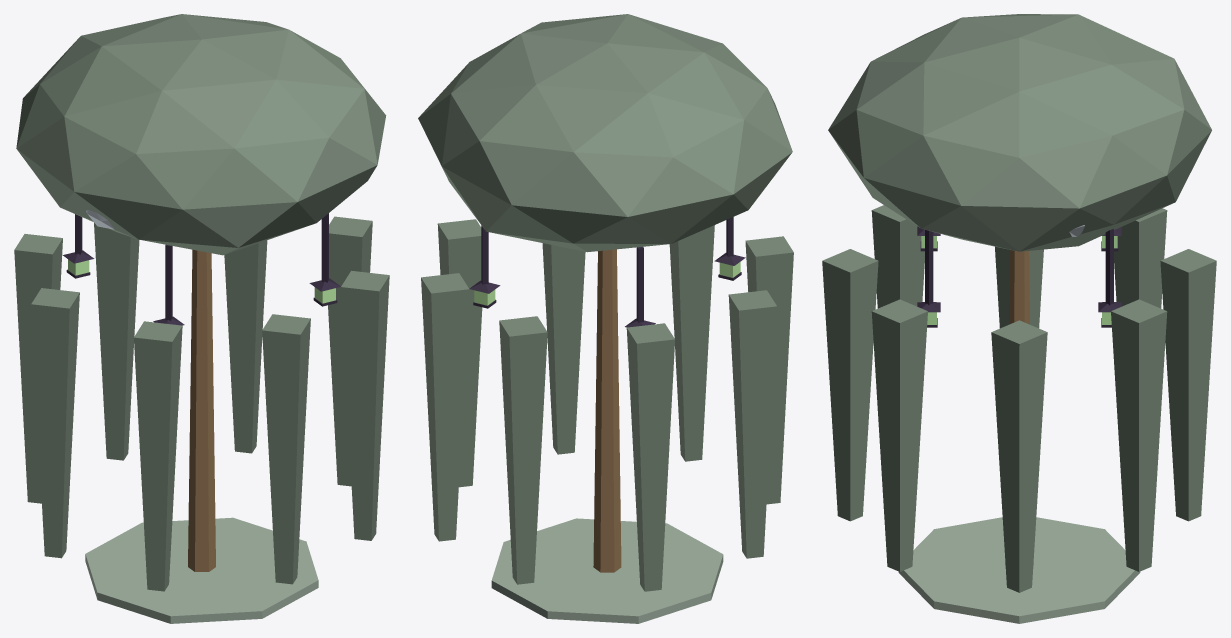
Rendered from graveyard-g3.glb.
The picture shows the model from 3 angles, left to right: view 1: azimuth 30°, elevation 25°; view 2: azimuth 150°, elevation 25°; view 3: azimuth 270°, elevation 25°; orthographic projection.
Parts seen in each view (by area): view 1: graveyard-g3; view 2: graveyard-g3; view 3: graveyard-g3.
Boxes of the visible parts, x1,y1,x2,y2 form: graveyard-g3: (14,14,389,623); graveyard-g3: (418,14,793,623); graveyard-g3: (822,14,1216,623).
Bounding box in the file's own units: 2.78 × 4.16 × 2.78.
